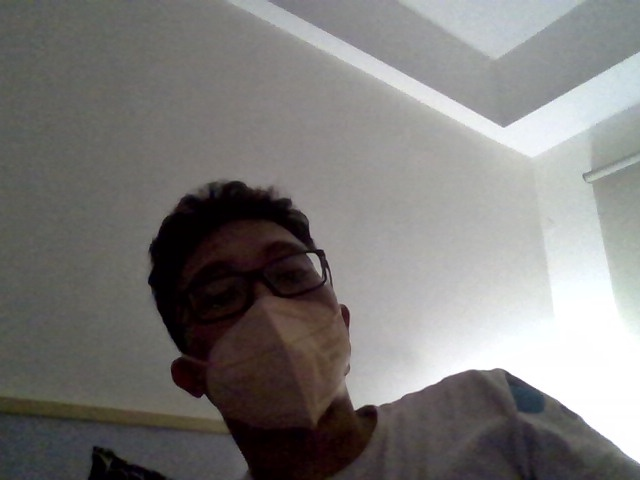Drowsy: (133, 179, 427, 479)
